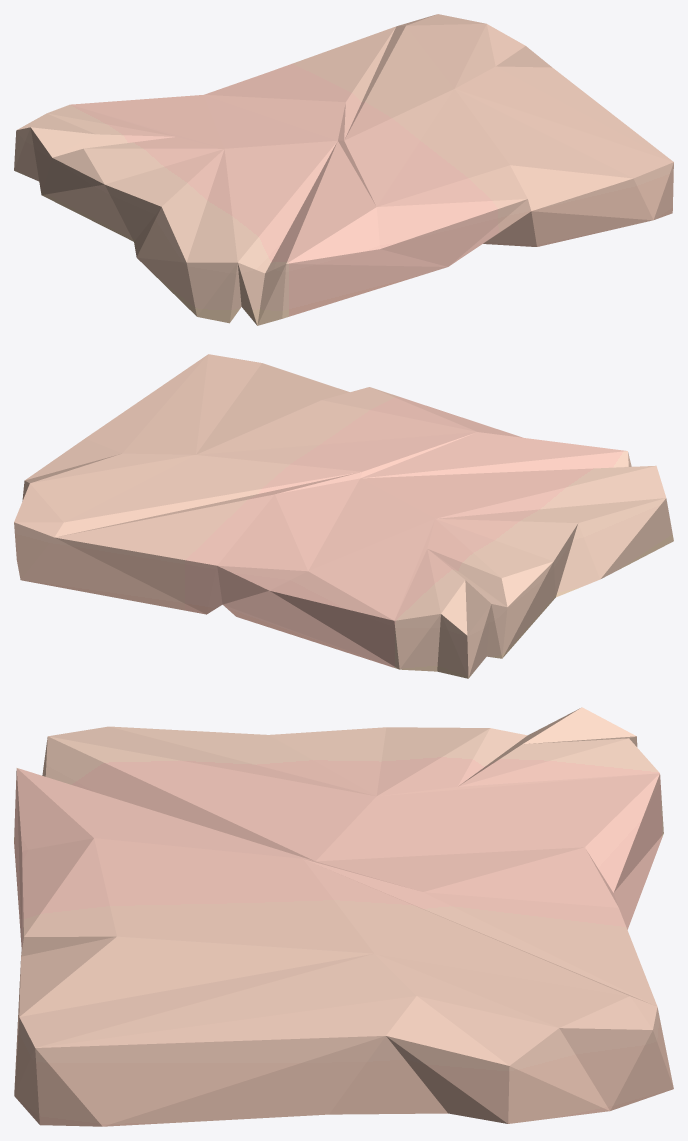
The model's file is DC_Stair2.fbx.
The picture shows the model from 3 angles, top to bottom: view 1: azimuth 30°, elevation 25°; view 2: azimuth 150°, elevation 25°; view 3: azimuth 270°, elevation 25°; orthographic projection. The views are drawn at different scales.
Visible parts, largest first — view 1: Stair2; view 2: Stair2; view 3: Stair2.
Part boxes in pixels (x1,y1,x2,y2): Stair2: (14,14,673,325); Stair2: (14,354,673,678); Stair2: (14,707,673,1126).
Size of the model in its own units: 3.45 by 0.5214 by 2.82.
1 material, 1 textured.
